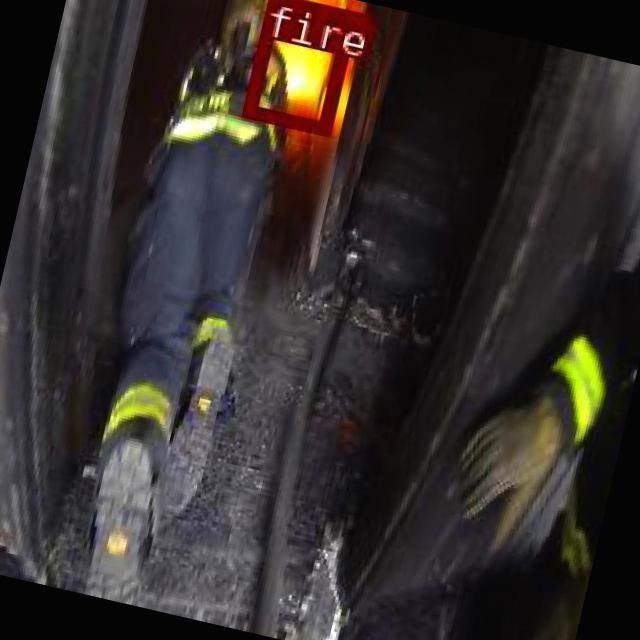fire: (239, 0, 354, 131)
